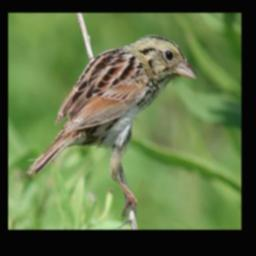Sparrow: (26, 33, 198, 216)
